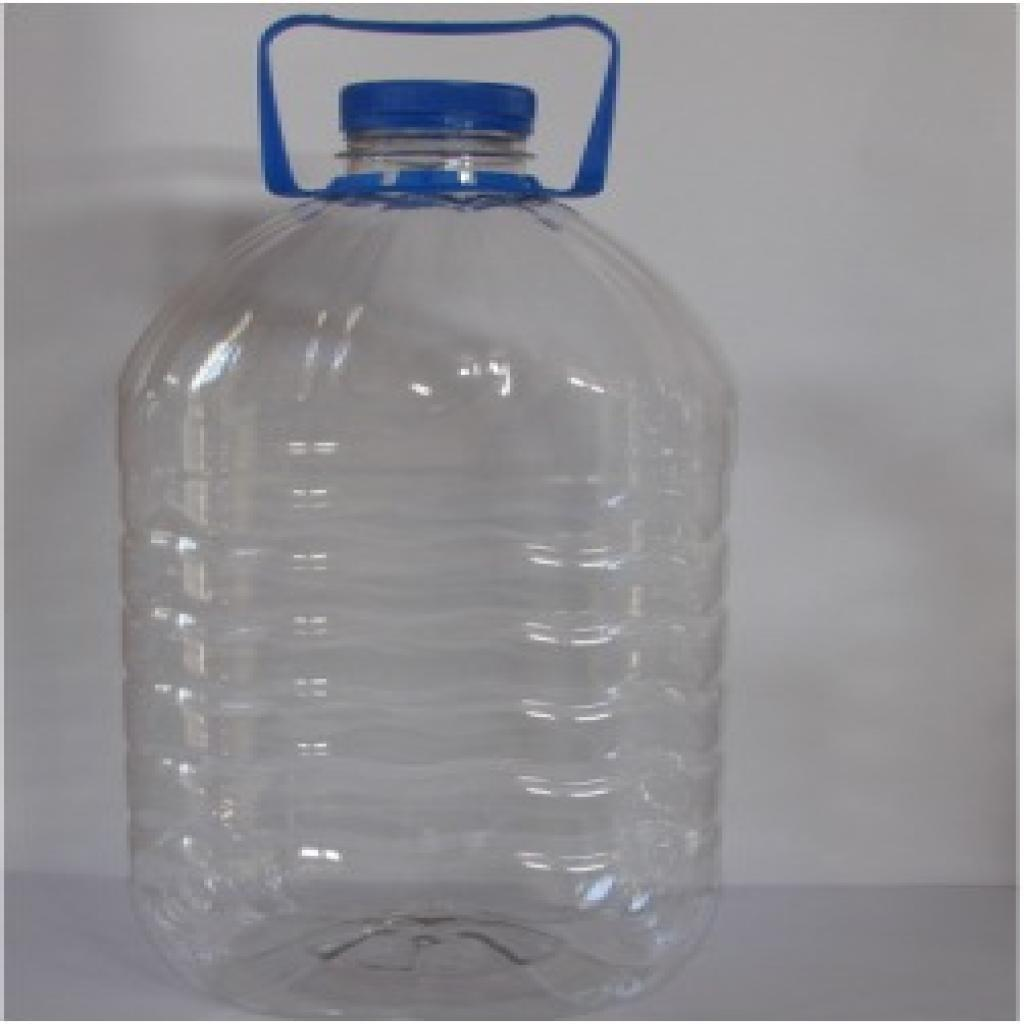plastic: (138, 58, 769, 1019)
